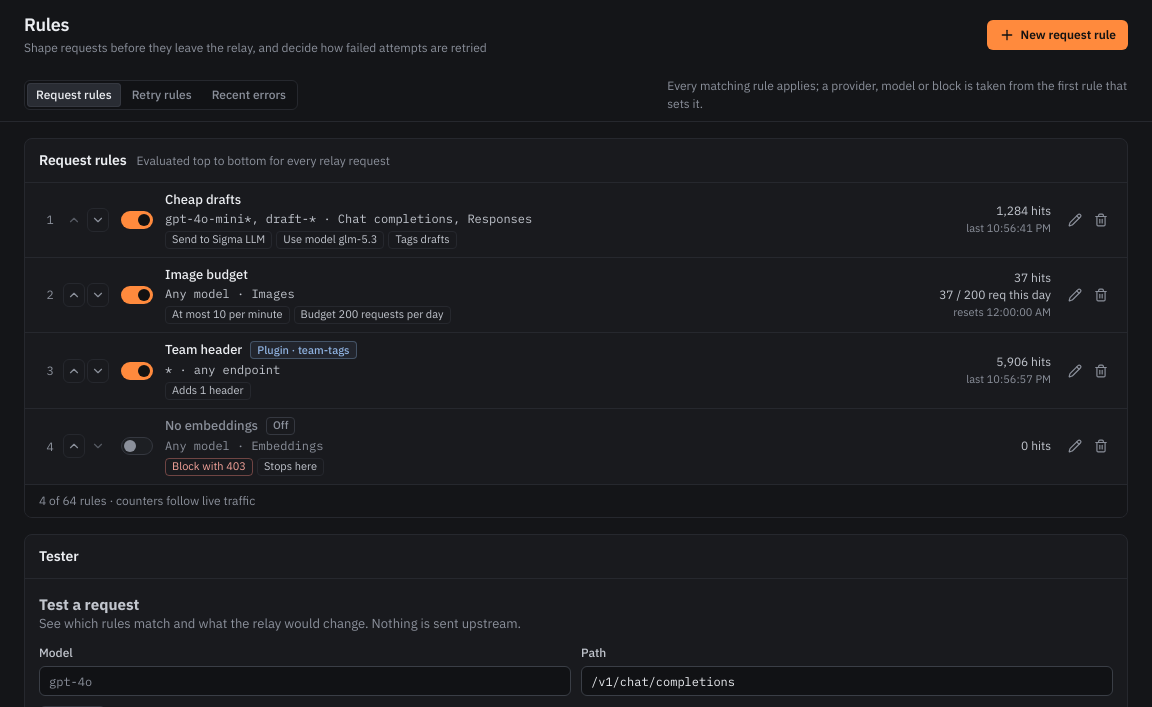
it: RulesPage › tests a request against the rules without sending it upstream
Step 1. Type "gpt-4o-mini" into the field labelled "Model" → (305, 681), box 39,666 -> 571,696
(page scrolled)
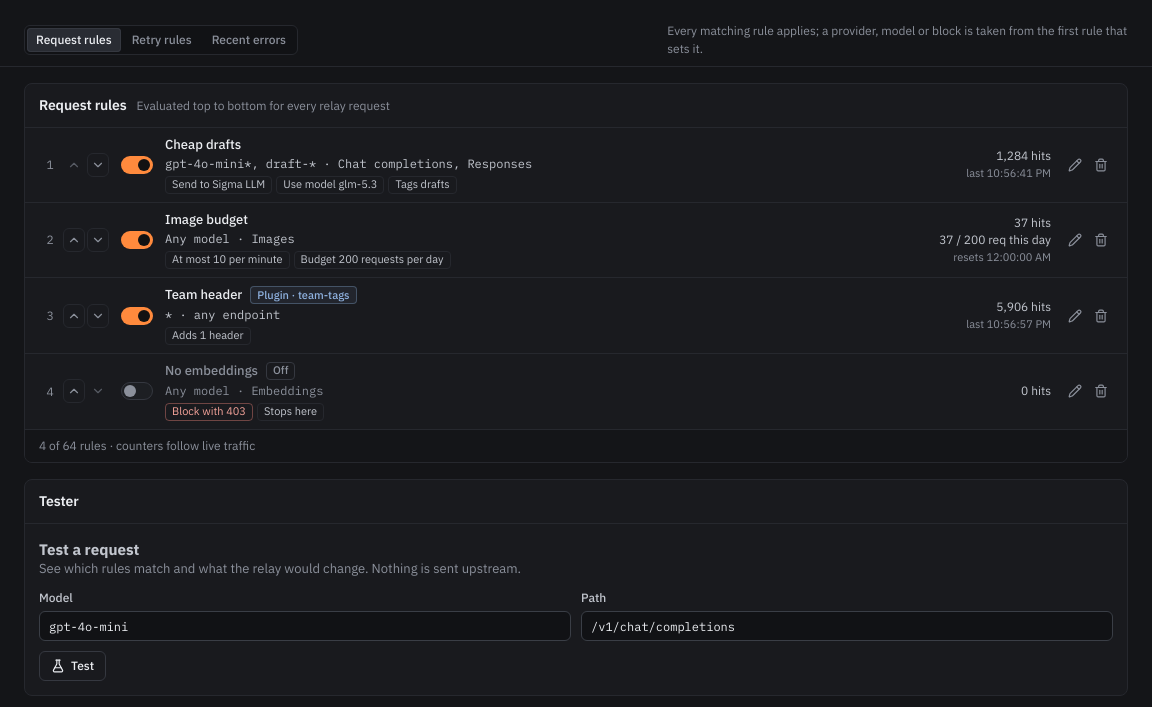
Step 2. Click the button "Test" → (72, 666), box 39,651 -> 106,681
(page scrolled)
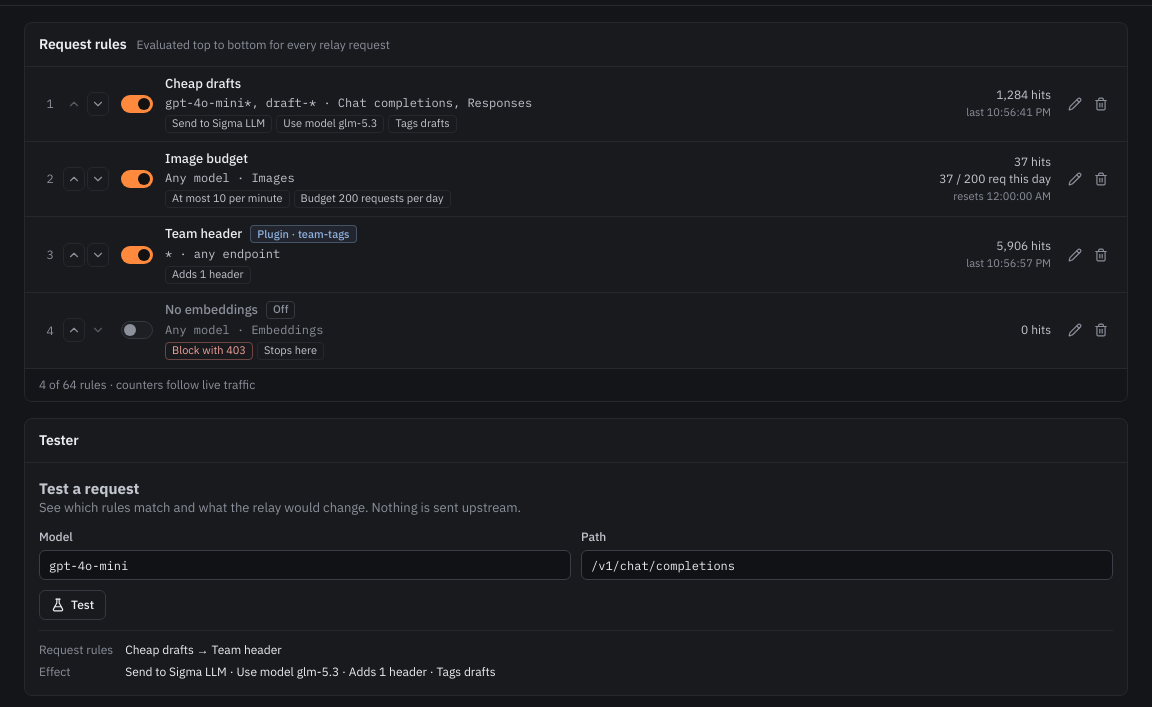
Expected: the message shows "Cheap drafts", 125,642 -> 282,657
Expected: the message shows "Team header", 125,642 -> 282,657
